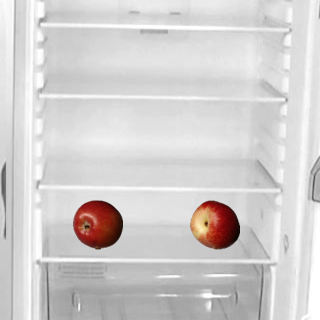Apple Braeburn: (72, 199, 122, 249)
Nectarine: (189, 199, 239, 249)
